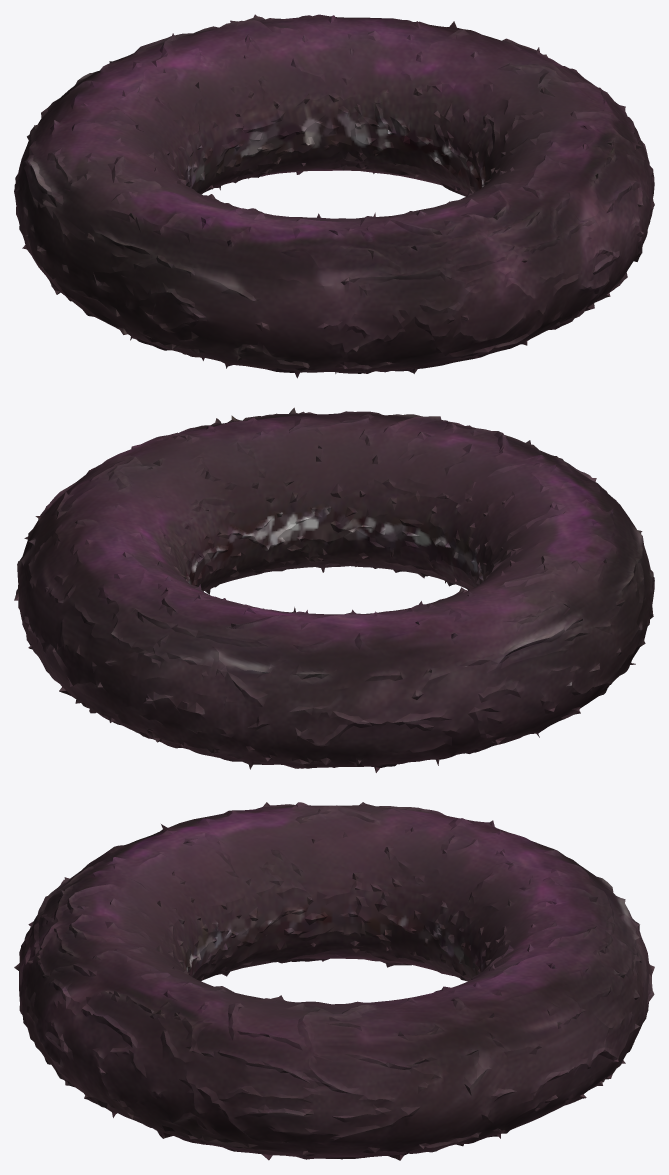
The model's file is dark_portal.glb.
The picture shows the model from 3 angles, top to bottom: view 1: azimuth 30°, elevation 25°; view 2: azimuth 150°, elevation 25°; view 3: azimuth 270°, elevation 25°; orthographic projection.
Visible parts, largest first — view 1: dark_portal; view 2: dark_portal; view 3: dark_portal.
Boxes of the visible parts, x1,y1,x2,y2 form: dark_portal: (14,14,654,378); dark_portal: (14,407,654,772); dark_portal: (14,802,654,1160).
Size of the model in its own units: 1.89 by 0.4698 by 1.89.
Materials: 1 (1 with a texture image).
